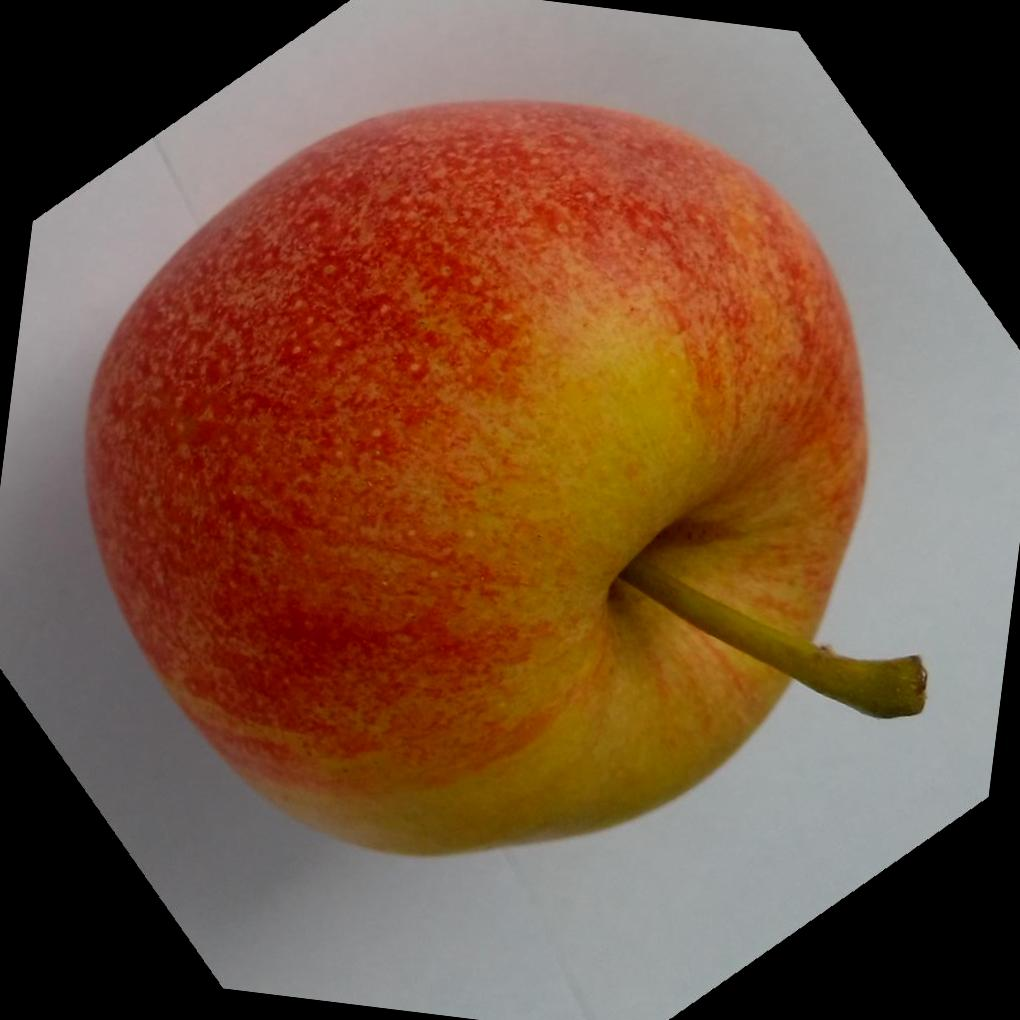FreshGuava: (78, 95, 926, 859)
